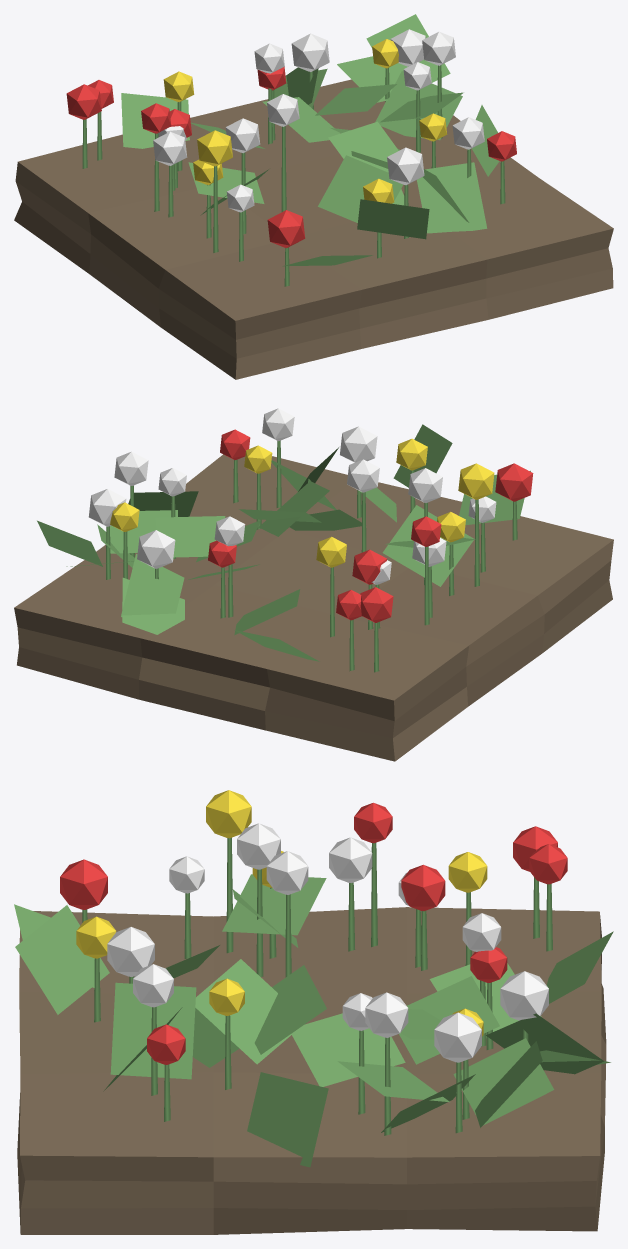
File: flowerbed_1m.glb
3 views of the same model, one above another, from view 1: azimuth 30°, elevation 25°; view 2: azimuth 150°, elevation 25°; view 3: azimuth 270°, elevation 25° (orthographic). The views are drawn at different scales.
Parts seen in each view (by area): view 1: flowerbed_1m; view 2: flowerbed_1m; view 3: flowerbed_1m.
Part boxes in pixels (bbox=[...]): flowerbed_1m: bbox=[14, 14, 613, 379]; flowerbed_1m: bbox=[14, 408, 613, 761]; flowerbed_1m: bbox=[14, 790, 613, 1234].
Bounding box in the file's own units: 1.04 × 0.4521 × 1.04.
